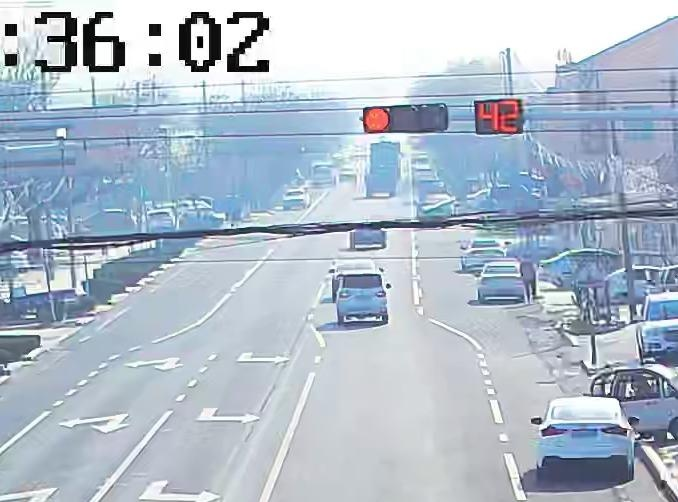red: (363, 107, 391, 133)
redtime: (476, 100, 521, 133)
